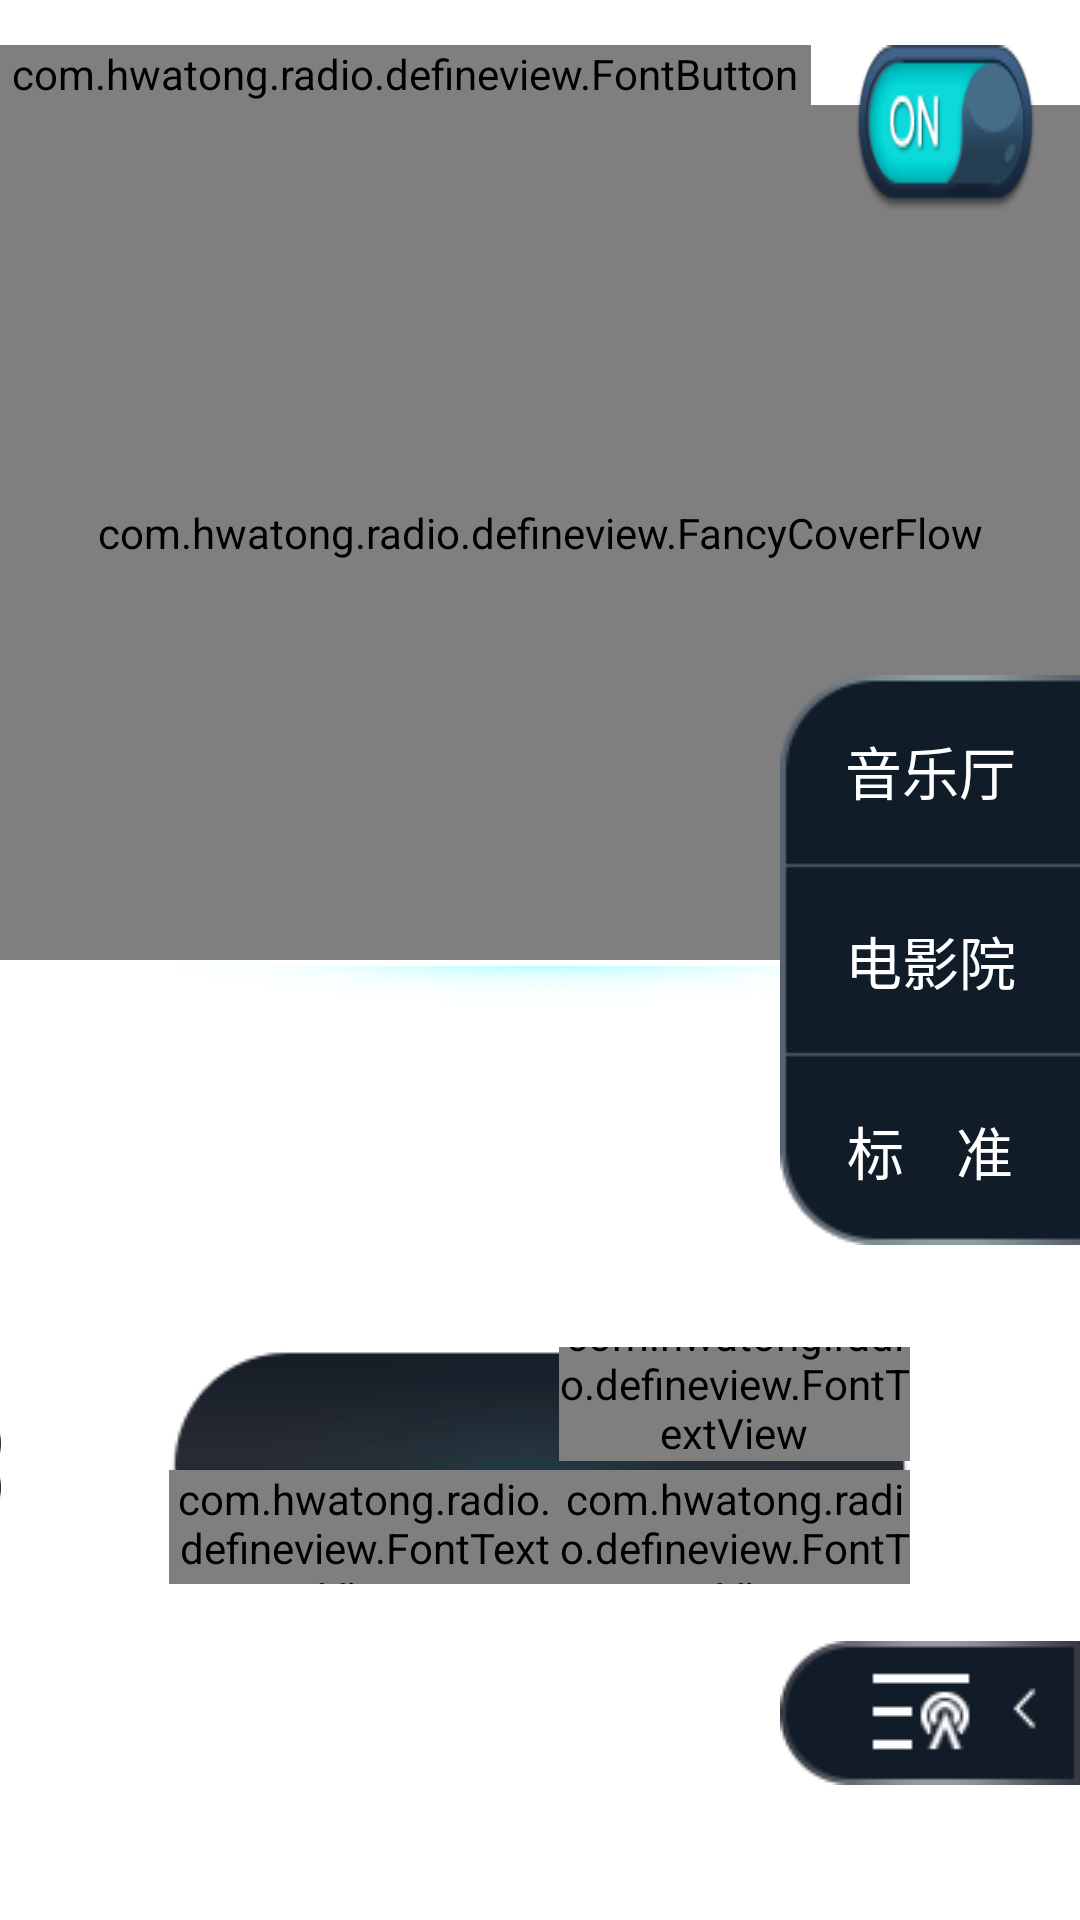

Where icons sit on this 1080px×1920px app screen, as (x1, y1, x2, y2):
lists radio: (780, 1641, 1080, 1785)
